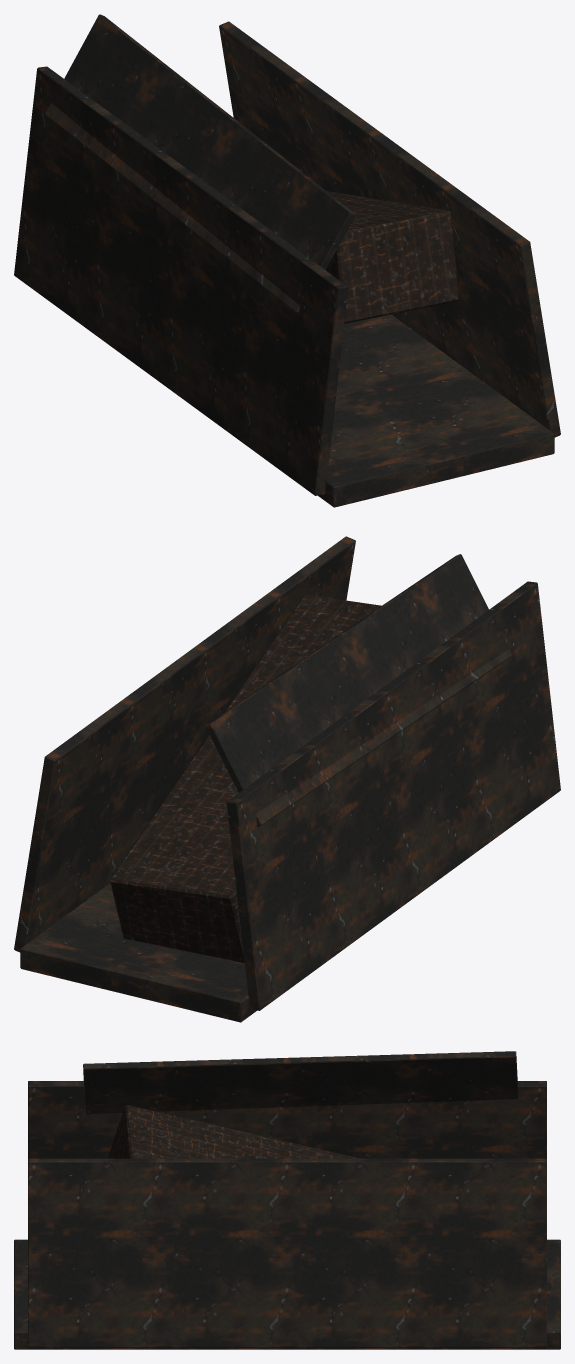
File: vgd_seawraith_container_wreck.glb
The picture shows the model from 3 angles, top to bottom: view 1: azimuth 30°, elevation 25°; view 2: azimuth 150°, elevation 25°; view 3: azimuth 270°, elevation 25°; orthographic projection. The views are drawn at different scales.
Visible parts, largest first — view 1: SeaWraith_Container_Wreck_Charred, SeaWraith_Container_Wreck_Burnt; view 2: SeaWraith_Container_Wreck_Charred, SeaWraith_Container_Wreck_Burnt; view 3: SeaWraith_Container_Wreck_Charred, SeaWraith_Container_Wreck_Burnt.
Part boxes in pixels (left/top/right/bottom): SeaWraith_Container_Wreck_Charred: left=14, top=14, right=560, bottom=507; SeaWraith_Container_Wreck_Burnt: left=326, top=191, right=459, bottom=323; SeaWraith_Container_Wreck_Charred: left=14, top=536, right=560, bottom=1022; SeaWraith_Container_Wreck_Burnt: left=109, top=594, right=381, bottom=962; SeaWraith_Container_Wreck_Charred: left=14, top=1051, right=560, bottom=1349; SeaWraith_Container_Wreck_Burnt: left=108, top=1105, right=360, bottom=1158.
Bounding box in the file's own units: 2.72 × 2.81 × 6.06.
2 materials, 2 textured.
